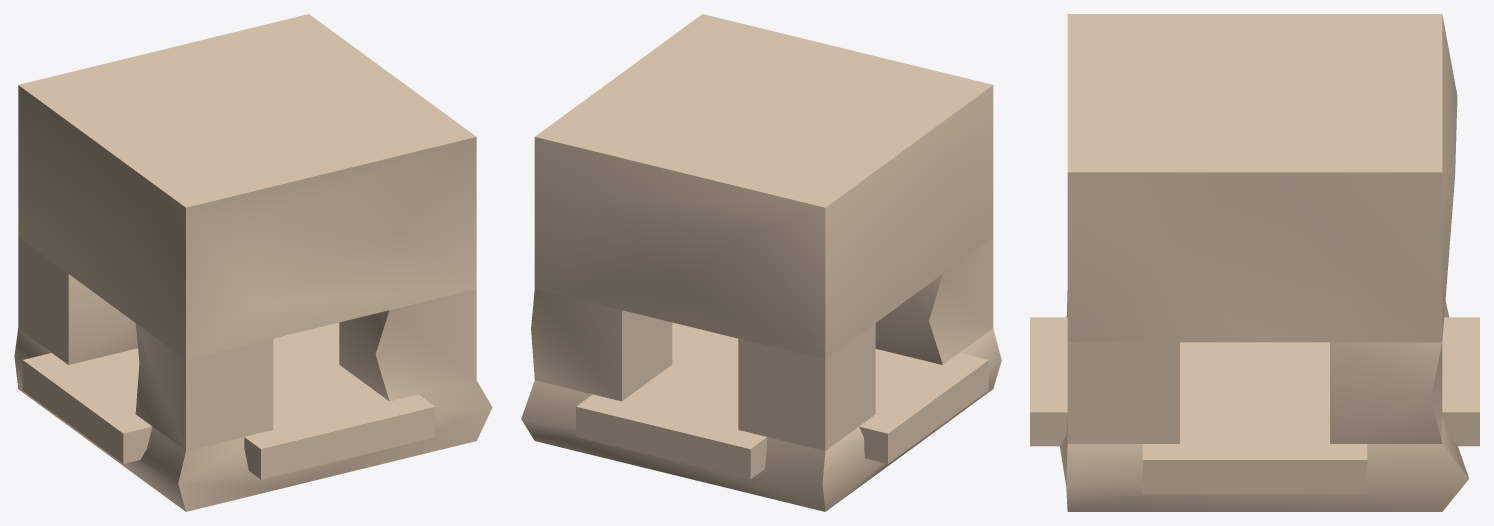
Rendered from windowed_cube_deco.fbx.
The picture shows the model from 3 angles, left to right: view 1: azimuth 30°, elevation 25°; view 2: azimuth 150°, elevation 25°; view 3: azimuth 270°, elevation 25°; orthographic projection. The views are drawn at different scales.
Visible parts, largest first — view 1: windowed_cube_deco; view 2: windowed_cube_deco; view 3: windowed_cube_deco.
Boxes of the visible parts, x1,y1,x2,y2 form: windowed_cube_deco: [14, 14, 492, 511]; windowed_cube_deco: [521, 14, 1001, 511]; windowed_cube_deco: [1030, 14, 1479, 511].
Bounding box in the file's own units: 120 × 100 × 120.
